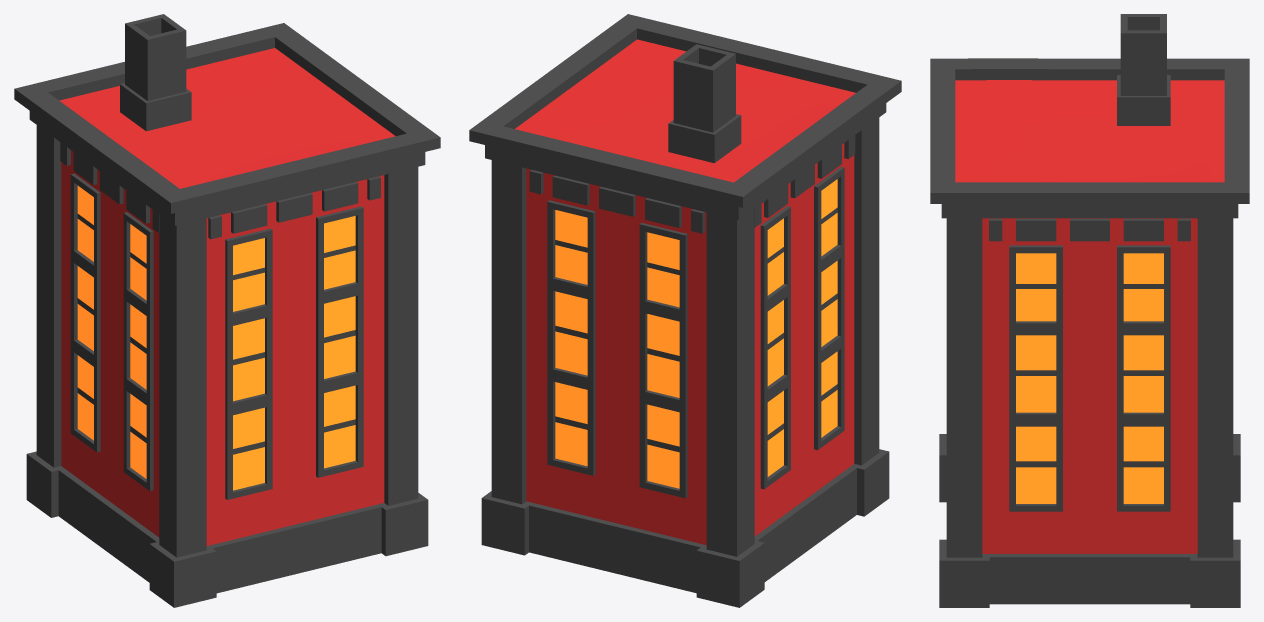
Rendered from Building 1.fbx.
3 renders of one model, left to right at view 1: azimuth 30°, elevation 25°; view 2: azimuth 150°, elevation 25°; view 3: azimuth 270°, elevation 25°, orthographic. The views are drawn at different scales.
Parts seen in each view (by area): view 1: Box003; view 2: Box003; view 3: Box003.
Boxes of the visible parts, x1,y1,x2,y2 form: Box003: [14, 14, 440, 607]; Box003: [469, 14, 901, 607]; Box003: [930, 14, 1249, 607].
Size of the model in its own units: 47.19 by 81.57 by 47.41.
